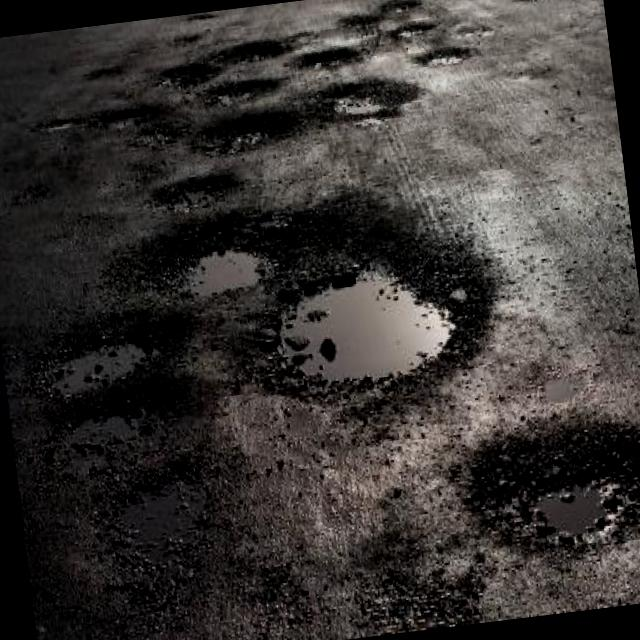Lubang: (467, 414, 640, 548), (281, 271, 453, 381), (109, 481, 207, 592), (192, 105, 304, 152), (53, 343, 145, 394), (314, 76, 419, 120), (91, 101, 187, 148), (65, 414, 137, 476), (152, 170, 241, 210), (188, 249, 258, 295), (158, 59, 220, 87), (218, 38, 290, 62), (292, 47, 361, 69), (414, 48, 476, 65), (339, 13, 382, 29), (380, 0, 422, 13), (398, 20, 436, 33)
